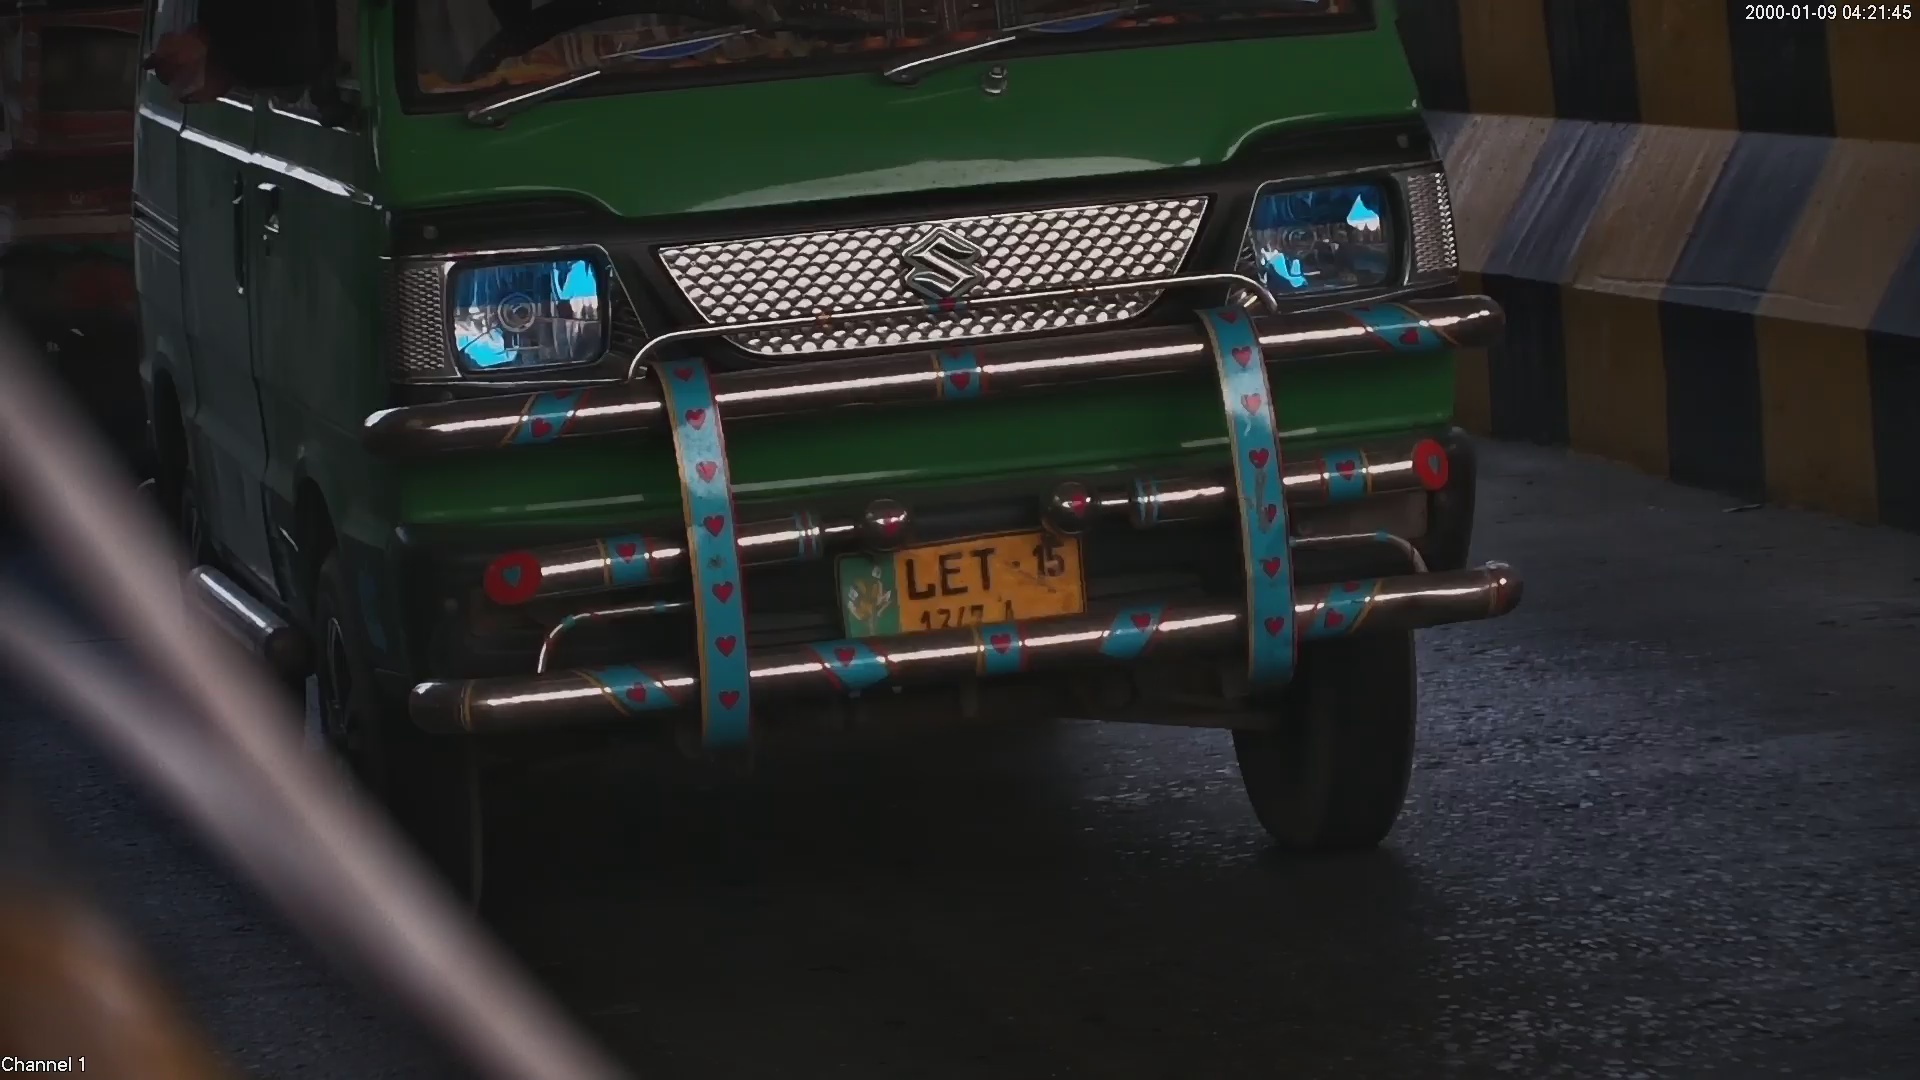Number_Plate: (800, 509, 1115, 670)
Undefined: (1223, 142, 1467, 340), (376, 249, 654, 396), (863, 214, 1010, 320)
